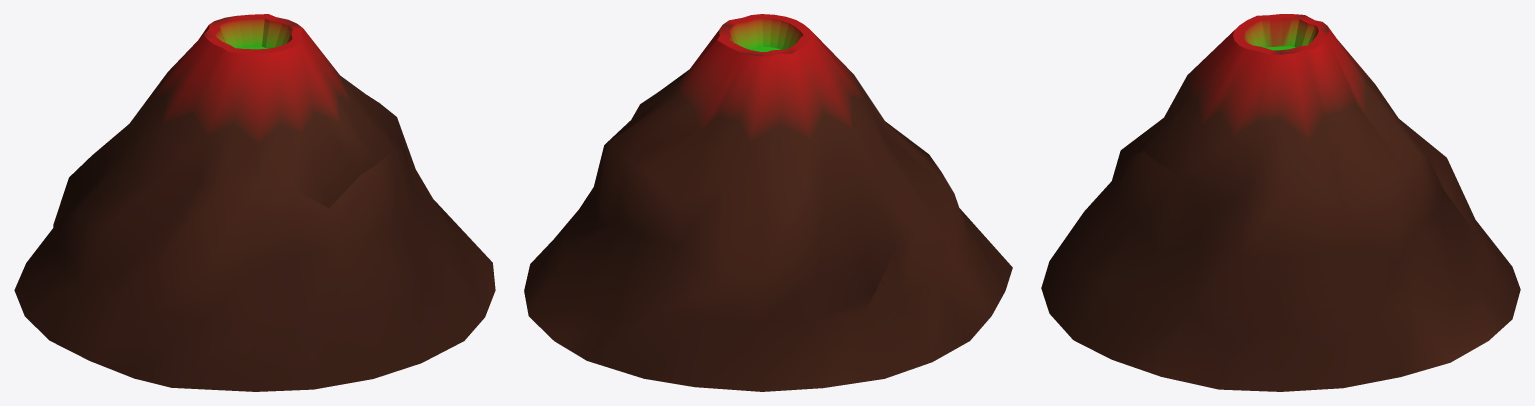
Rendered from Vulcano.FBX.
3 views of the same model, side by side, from view 1: azimuth 30°, elevation 25°; view 2: azimuth 150°, elevation 25°; view 3: azimuth 270°, elevation 25° (orthographic).
Parts seen in each view (by area): view 1: Vulkano; view 2: Vulkano; view 3: Vulkano.
Boxes of the visible parts, <box> form: Vulkano: <box>14,14,495,391</box>; Vulkano: <box>524,14,1012,391</box>; Vulkano: <box>1041,14,1520,391</box>.
Bounding box in the file's own units: 96.47 × 56.64 × 96.47.
